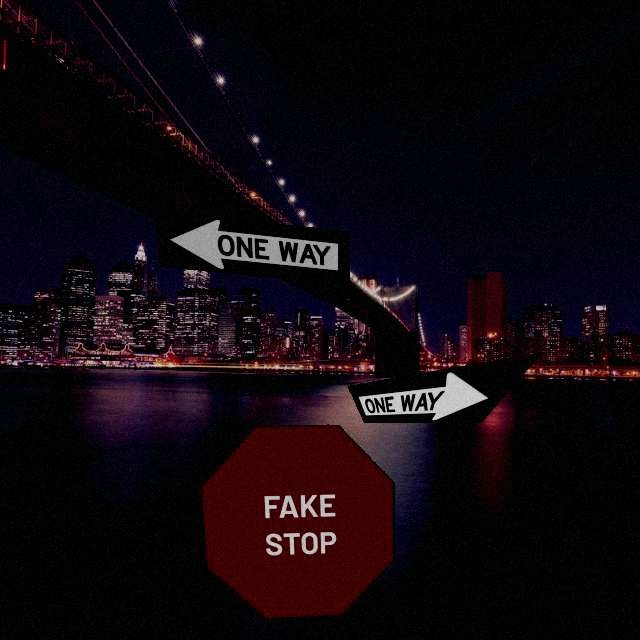FAKE_STOP: (200, 424, 395, 620)
ONE_WAY_ left: (154, 209, 350, 285)
ONE_WAY_ right: (347, 351, 543, 423)
